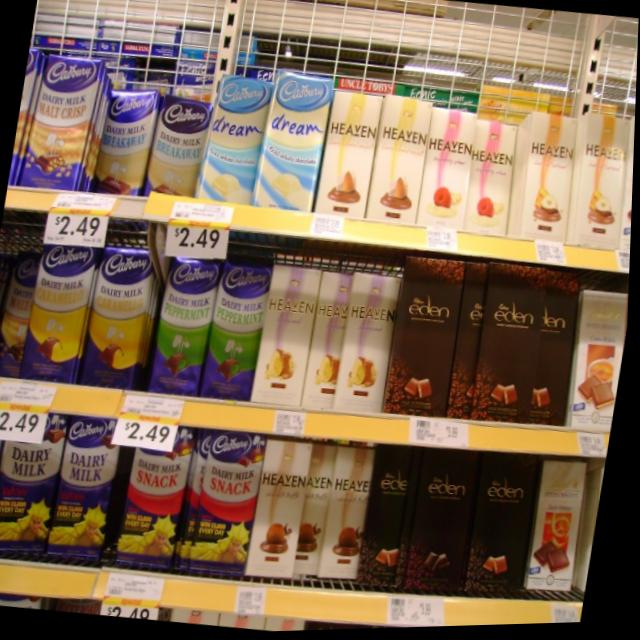q145: (53, 415, 129, 560), (0, 415, 68, 561), (0, 419, 10, 554)
q250: (455, 106, 526, 248), (413, 98, 479, 245)
